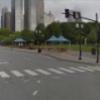crosswalks: (0, 66, 100, 80)
